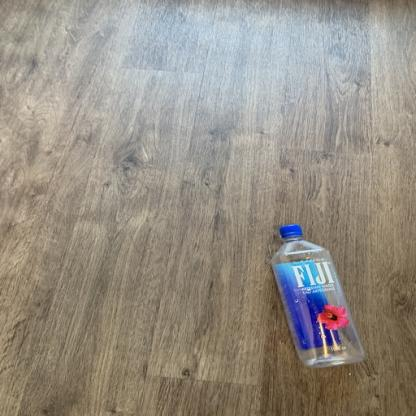trash: (268, 223, 368, 372)
